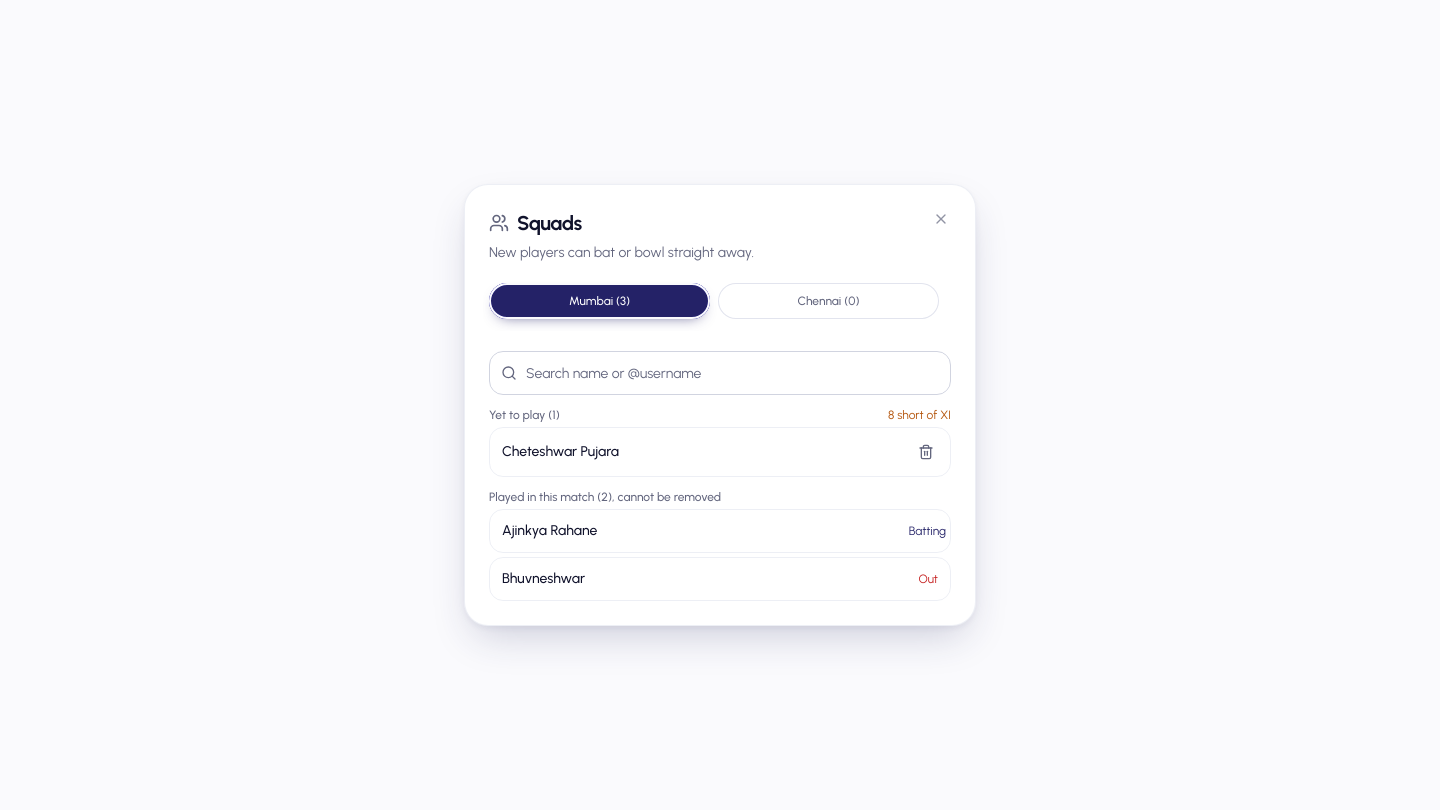
SquadManagerDialog › warns before adding a duplicate name
In the search field: x=720, y=373 [489,351,951,395], type "bhuvneshwar"
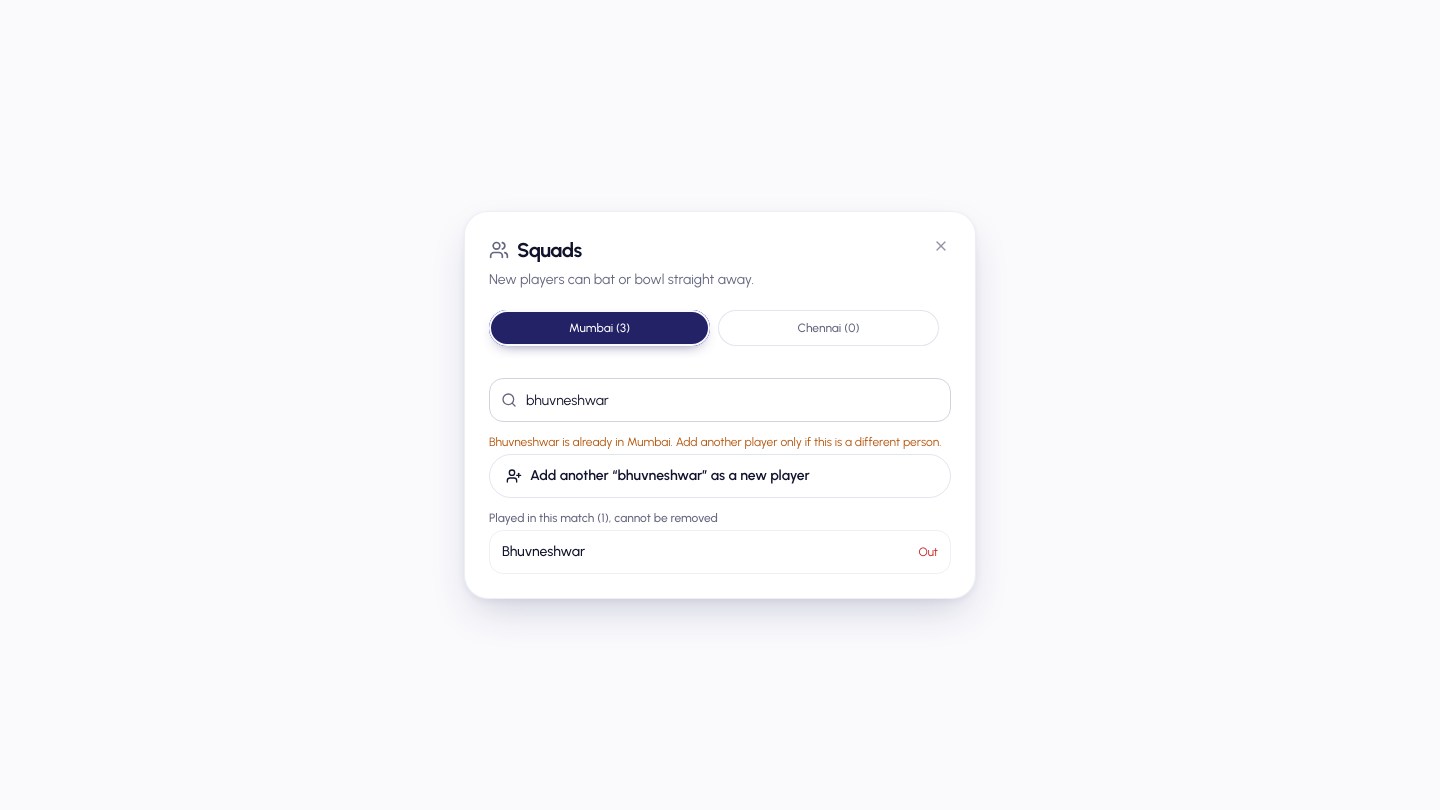
Expected: the button "Add another “bhuvneshwar” as a new player" is enabled, [489,454,951,498]
Now the text "Bhuvneshwar is already in Mumbai" is shown, box [489,434,951,450]
